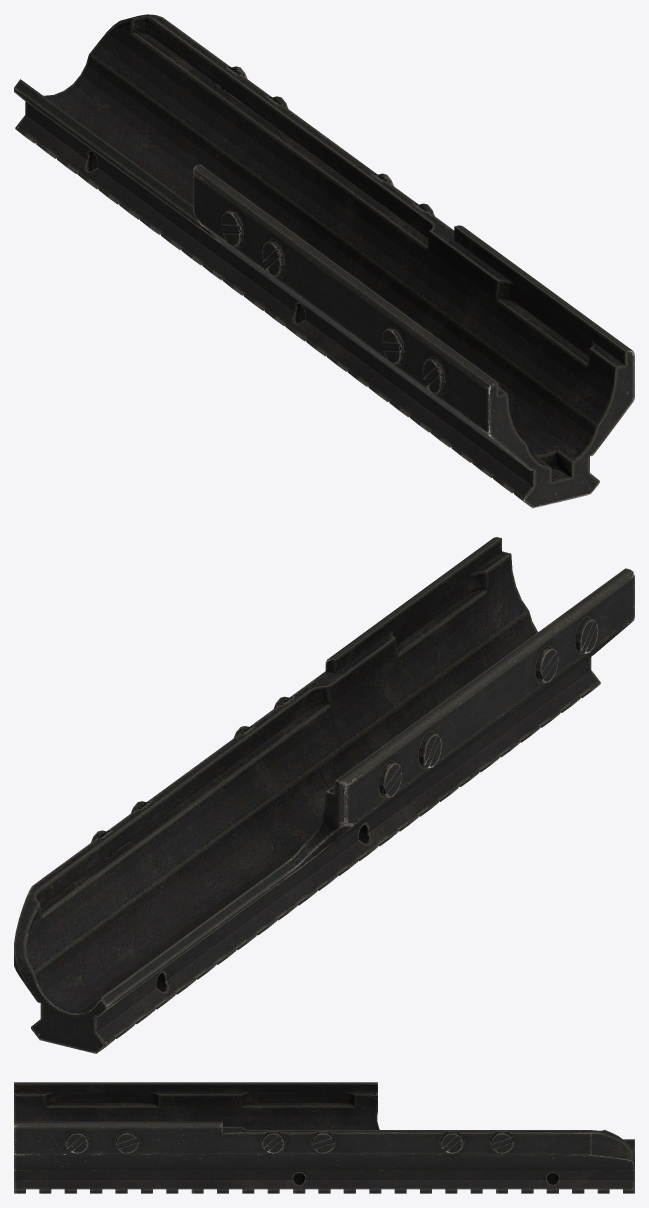
The picture shows the model from 3 angles, top to bottom: view 1: azimuth 30°, elevation 25°; view 2: azimuth 150°, elevation 25°; view 3: azimuth 270°, elevation 25°; orthographic projection. The views are drawn at different scales.
Visible parts, largest first — view 1: TW_5b099bb25acfc400186331e8_PZ_Import; view 2: TW_5b099bb25acfc400186331e8_PZ_Import; view 3: TW_5b099bb25acfc400186331e8_PZ_Import.
Part boxes in pixels (x1,y1,x2,y2): TW_5b099bb25acfc400186331e8_PZ_Import: (14,14,634,508); TW_5b099bb25acfc400186331e8_PZ_Import: (14,537,634,1053); TW_5b099bb25acfc400186331e8_PZ_Import: (14,1082,634,1193).
Bounding box in the file's own units: 0.0252 × 0.1415 × 0.0206.
Materials: 1 (1 with a texture image).
